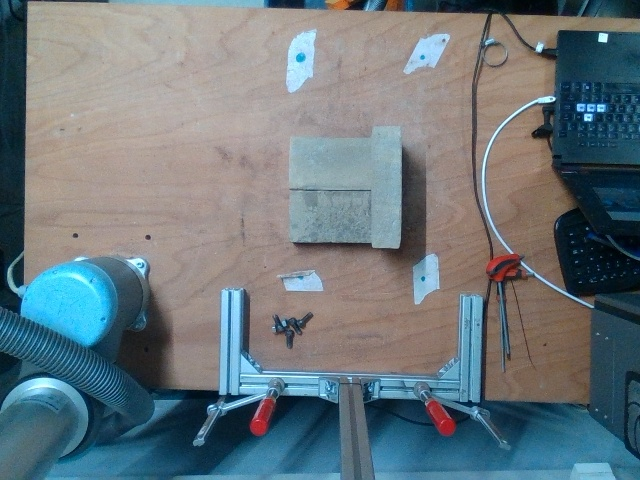brick-side: (373, 127, 401, 245)
